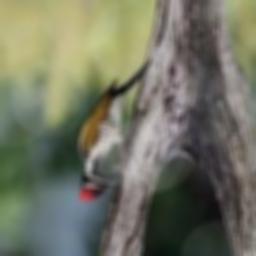Woodpecker: (80, 62, 152, 201)
